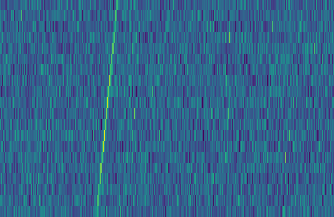signal: (91, 0, 121, 217)
